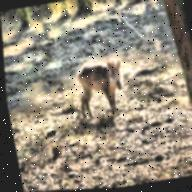boar: (66, 41, 146, 126)
